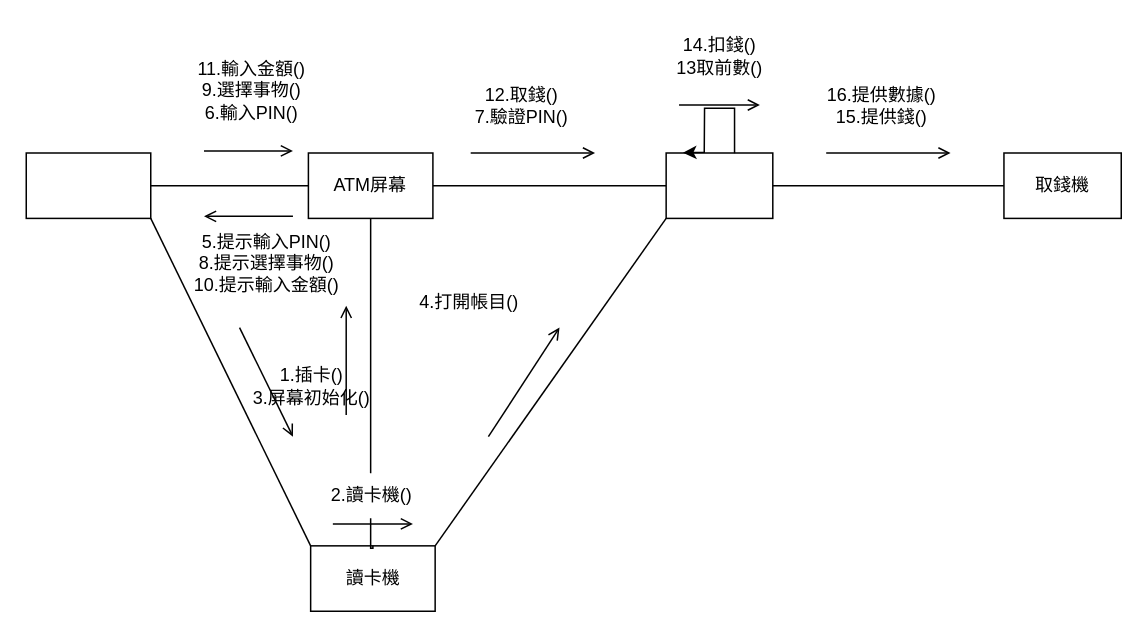
Image size: 1148x638. Some labels were removed from this diagram. The shapes that lost their labels are listed below. From the top down, each one's centre as x and y in pixels, then its label:
[88,185]: 客戶
[719,185]: 帳目
